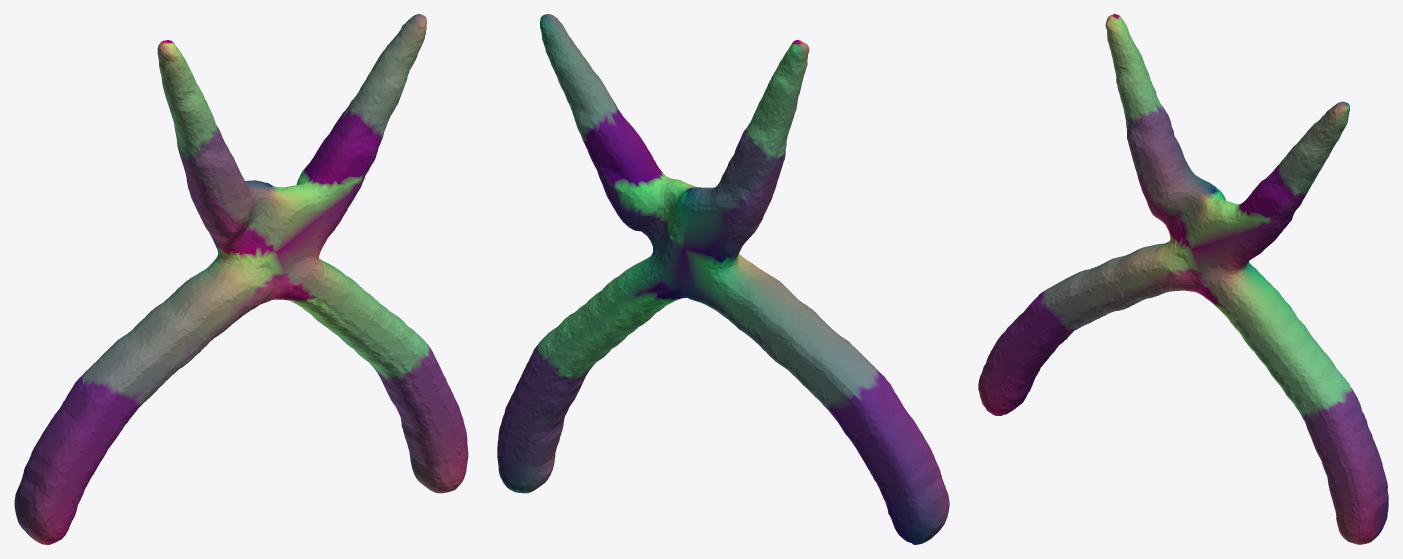
Rendered from pliers-5.off.obj.
The picture shows the model from 3 angles, left to right: view 1: azimuth 30°, elevation 25°; view 2: azimuth 150°, elevation 25°; view 3: azimuth 330°, elevation 25°; orthographic projection. The views are drawn at different scales.
Size of the model in its own units: 1.36 by 1.53 by 0.1669.
